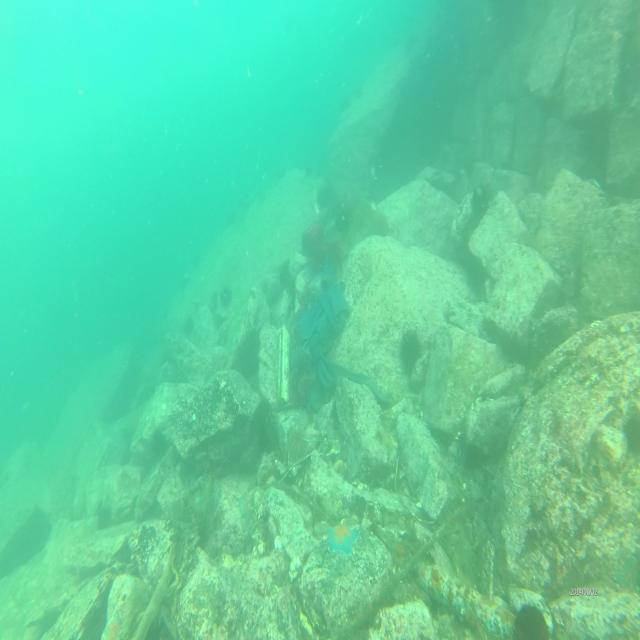echinus: (514, 596, 551, 640), (399, 330, 424, 370), (317, 182, 334, 212), (219, 282, 232, 310)
starfish: (326, 517, 360, 561)
